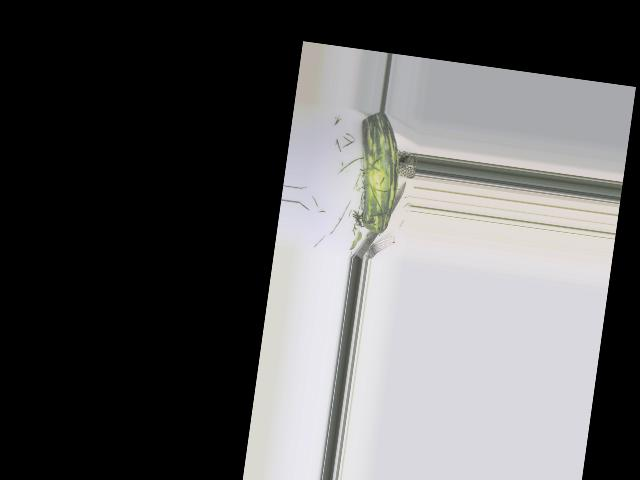cucumber: (347, 110, 406, 235)
